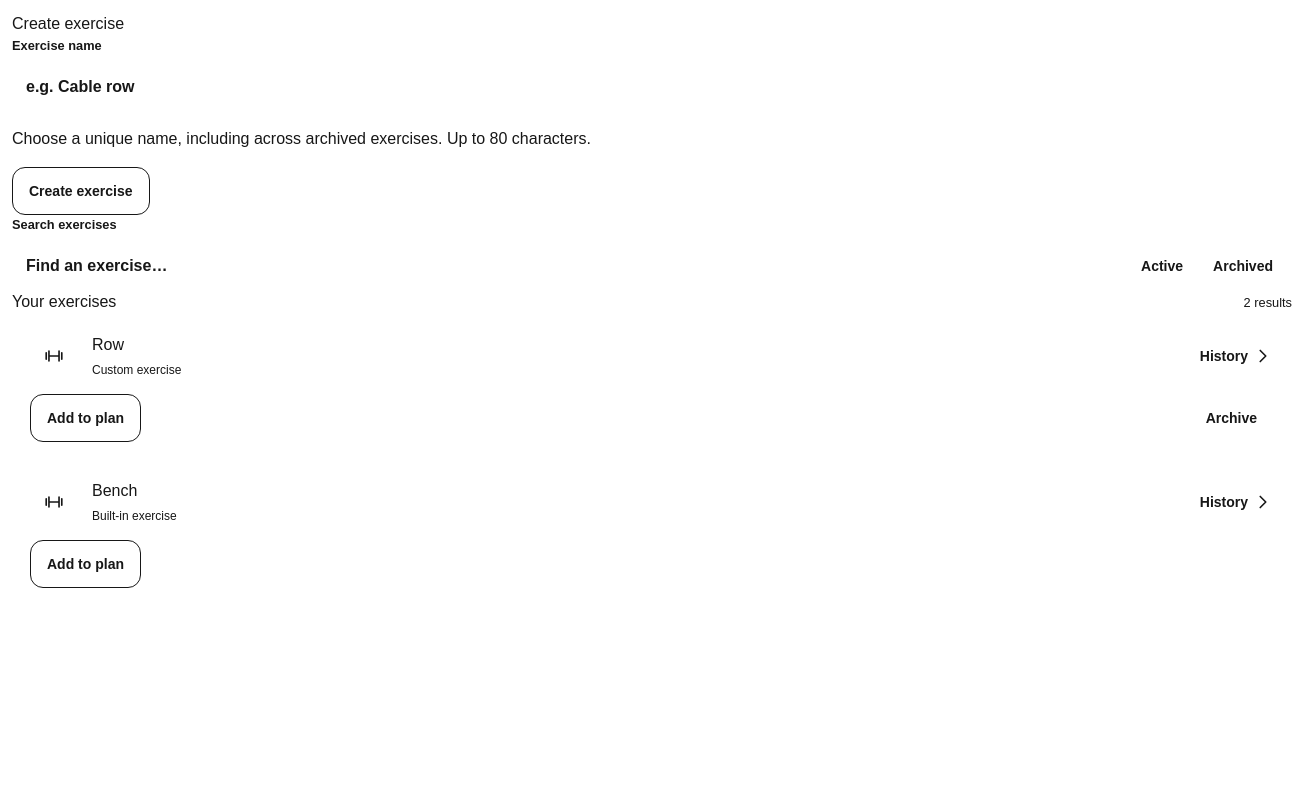
Test: locks all writes on an uncertain response until recovery succeeds
Click the button named "Archive Row": (1231, 418) [1189,394,1274,442]
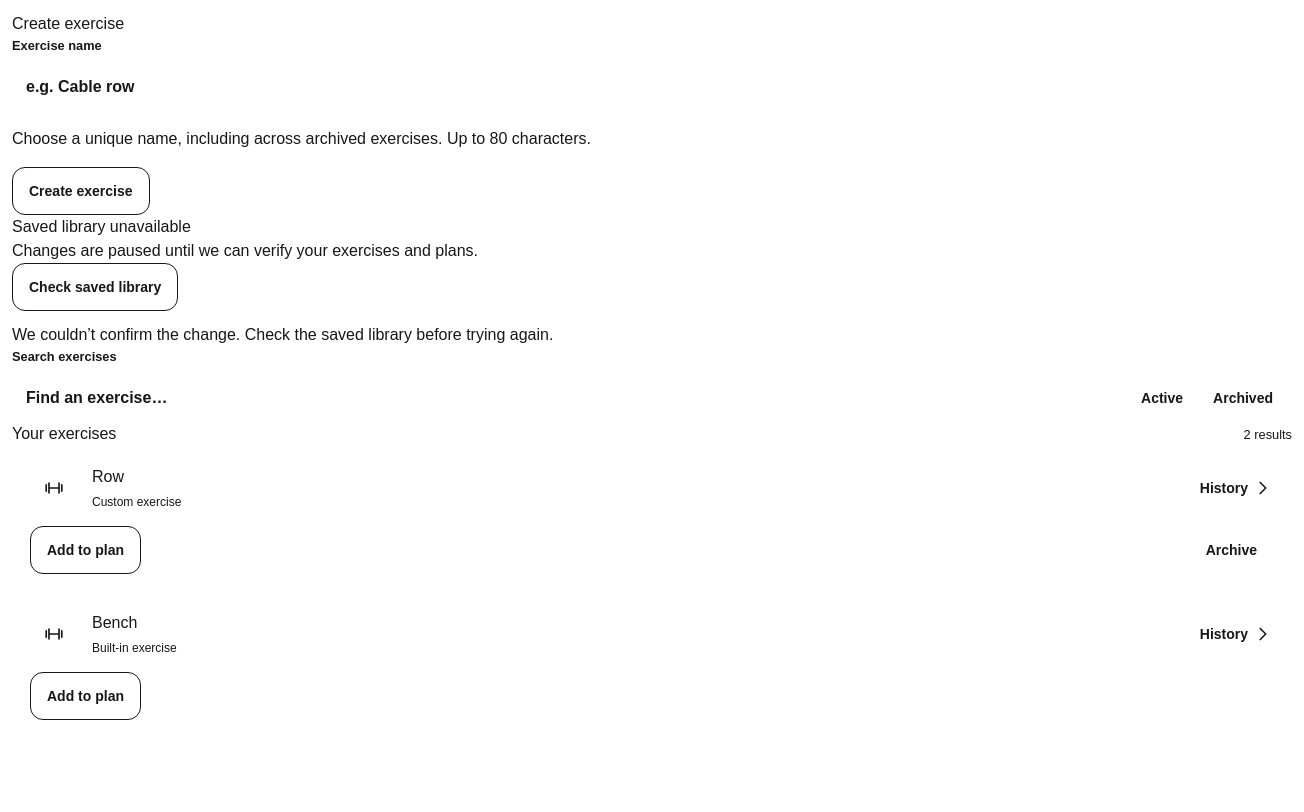
expect the button "Create exercise" is disabled: met, box [12,167,150,215]
expect the heading "Saved library unavailable" is shown: met, box [12,218,191,235]
expect the button named "Archive Row" is disabled: met, box [1189,526,1274,574]
Click the button "Check saved library": (95, 287) [12,263,178,311]
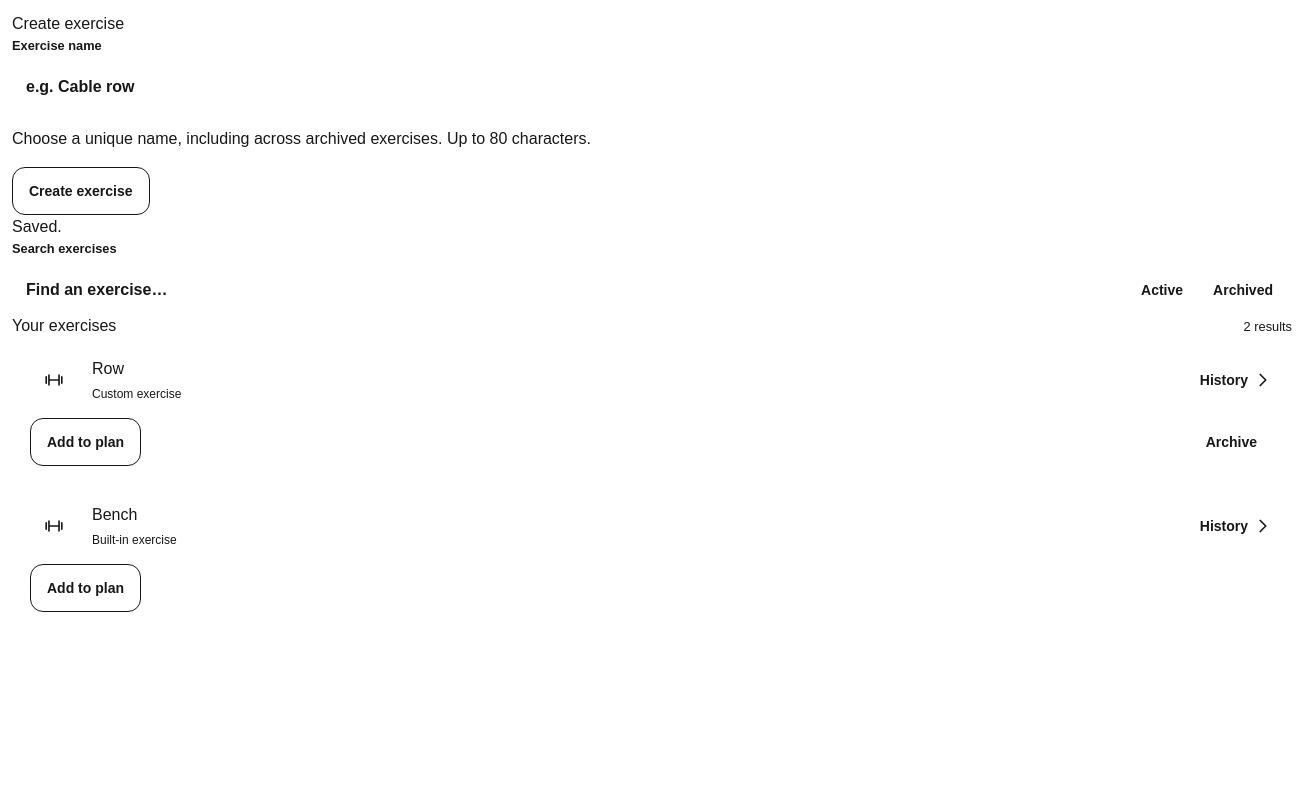
expect the button named "Archive Row" is enabled: met, box [1189,418,1274,466]
